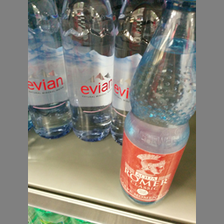water: (120, 1, 196, 208), (58, 1, 113, 143), (28, 1, 72, 140)
